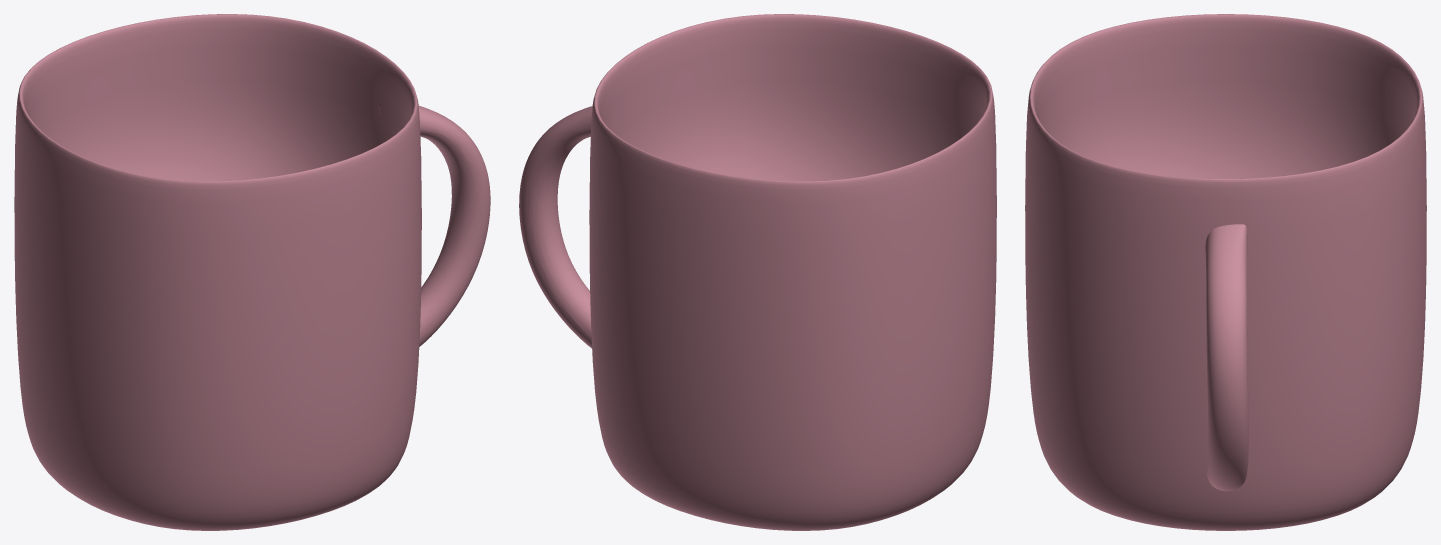
Rendered from mug_collectible.fbx.
3 views of the same model, side by side, from view 1: azimuth 30°, elevation 25°; view 2: azimuth 150°, elevation 25°; view 3: azimuth 270°, elevation 25° (orthographic).
Parts seen in each view (by area): view 1: Cube; view 2: Cube; view 3: Cube.
Boxes of the visible parts, box(x1,y1,x2,y2) form: Cube: box(14, 14, 490, 530); Cube: box(519, 14, 996, 530); Cube: box(1025, 14, 1426, 530).
Size of the model in its own units: 38.66 by 30.63 by 30.18.
